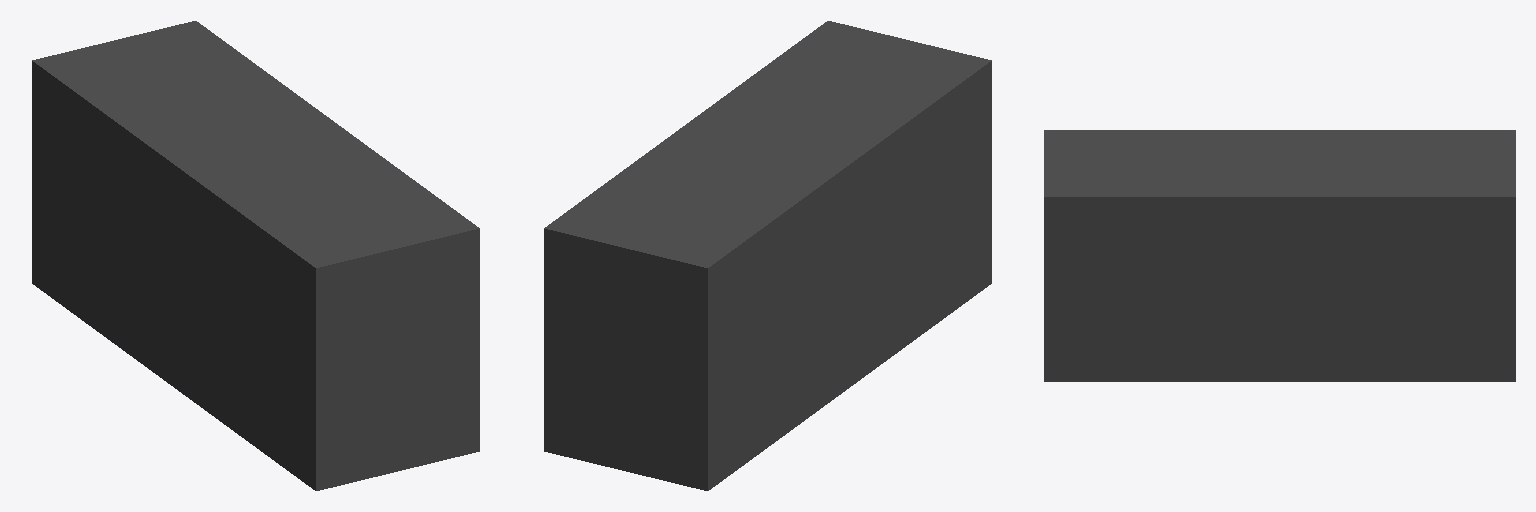
URDF robot description (riser):
<?xml version="1.0" ?>
<!-- Plataforma fija para elevar objetos pequenos hasta la altura que el
     brazo pueda alcanzar. A diferencia de un "objects: box" (siempre un
     cuerpo libre en este simulador), un prop URDF puede montarse fixed. -->
<robot name="riser">
	<link name="plataforma">
		<inertial>
			<origin rpy="0 0 0" xyz="0 0 0"/>
			<mass value="5.0"/>
			<inertia ixx="0.5" ixy="0.0" ixz="0.0" iyy="0.5" iyz="0.0" izz="0.5"/>
		</inertial>
		<collision>
			<origin rpy="0 0 0" xyz="0 0 0"/>
			<geometry>
				<box size="0.10 0.30 0.13"/>
			</geometry>
		</collision>
		<visual>
			<origin rpy="0 0 0" xyz="0 0 0"/>
			<geometry>
				<box size="0.10 0.30 0.13"/>
			</geometry>
			<material name="plataforma_mat">
				<color rgba="0.35 0.35 0.35 1.0"/>
			</material>
		</visual>
	</link>
</robot>

--- Render facts (derived) ---
The picture shows the robot from 3 angles, left to right: view 1: azimuth 30°, elevation 25°; view 2: azimuth 150°, elevation 25°; view 3: azimuth 270°, elevation 25°; orthographic projection.
Model riser with 1 links and 0 joints (none), rooted at plataforma, posed every joint at zero.
Visible links, largest first — view 1: plataforma; view 2: plataforma; view 3: plataforma.
Boxes of the visible links, x1,y1,x2,y2 form: plataforma: (32, 21, 479, 490); plataforma: (544, 21, 991, 490); plataforma: (1044, 130, 1515, 381).
Size in the robot's own frame: 0.1 by 0.3 by 0.13 metres.
Geometry: primitives only (box / cylinder / sphere), no mesh files.
